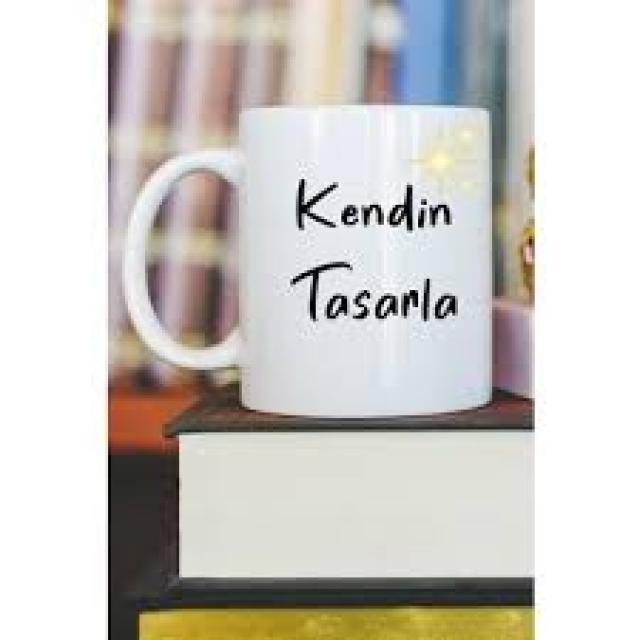taza: (122, 105, 492, 419)
